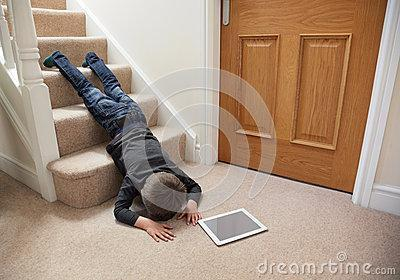Fall-Detected: (39, 40, 221, 242)
